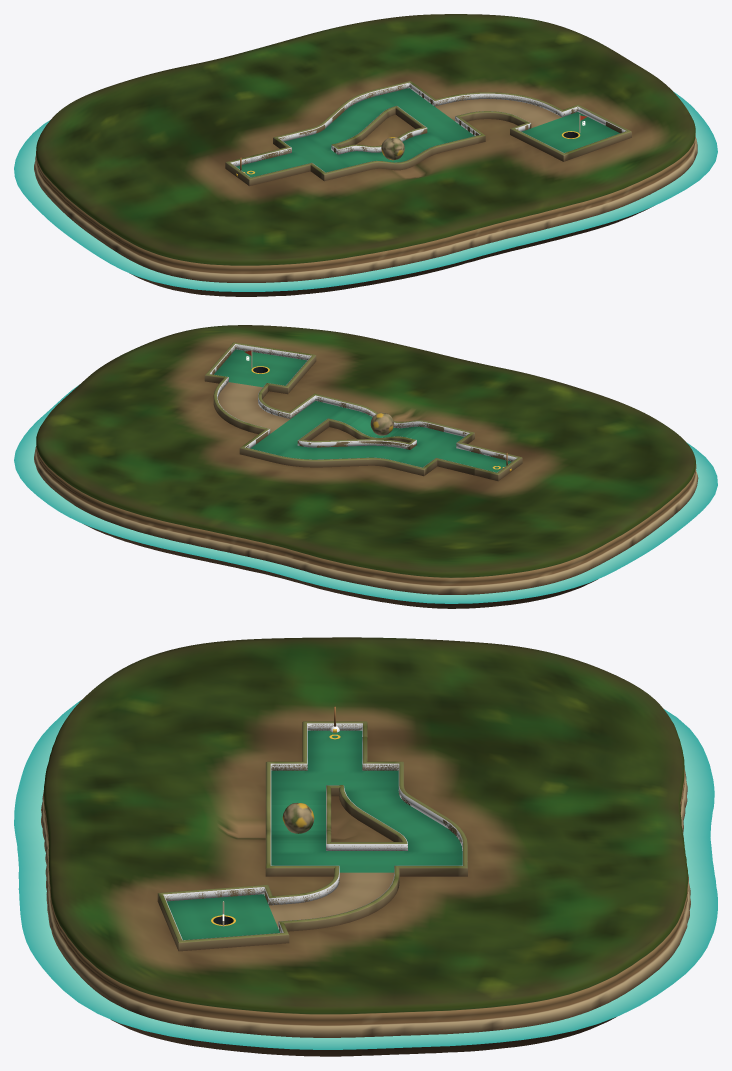
Rendered from course-08.glb.
The picture shows the model from 3 angles, top to bottom: view 1: azimuth 30°, elevation 25°; view 2: azimuth 150°, elevation 25°; view 3: azimuth 270°, elevation 25°; orthographic projection. The views are drawn at different scales.
Parts seen in each view (by area): view 1: scenery-matte, water-shore, floor-felt, rail-trim, rail-stone, floor-sand; view 2: scenery-matte, water-shore, floor-felt, rail-trim, rail-stone, floor-sand; view 3: scenery-matte, water-shore, floor-felt, rail-trim, rail-stone, floor-sand, obstacle-stone.
Boxes of the visible parts, left/top/right/bottom form: scenery-matte: left=34, top=14, right=697, bottom=296; water-shore: left=14, top=91, right=717, bottom=291; floor-felt: left=236, top=88, right=619, bottom=177; rail-trim: left=225, top=81, right=631, bottom=186; rail-stone: left=230, top=82, right=626, bottom=177; floor-sand: left=435, top=99, right=561, bottom=128; scenery-matte: left=34, top=325, right=698, bottom=608; water-shore: left=14, top=385, right=717, bottom=603; floor-felt: left=214, top=349, right=511, bottom=472; rail-trim: left=204, top=342, right=522, bottom=481; rail-stone: left=210, top=344, right=517, bottom=472; floor-sand: left=218, top=382, right=289, bottom=433; scenery-matte: left=41, top=637, right=690, bottom=1056; water-shore: left=14, top=700, right=717, bottom=1049; floor-felt: left=167, top=730, right=462, bottom=940; rail-trim: left=157, top=721, right=467, bottom=951; rail-stone: left=163, top=723, right=462, bottom=940; floor-sand: left=269, top=872, right=394, bottom=927; obstacle-stone: left=282, top=802, right=314, bottom=833.
Size of the model in its own units: 29.51 by 3.06 by 22.15.
